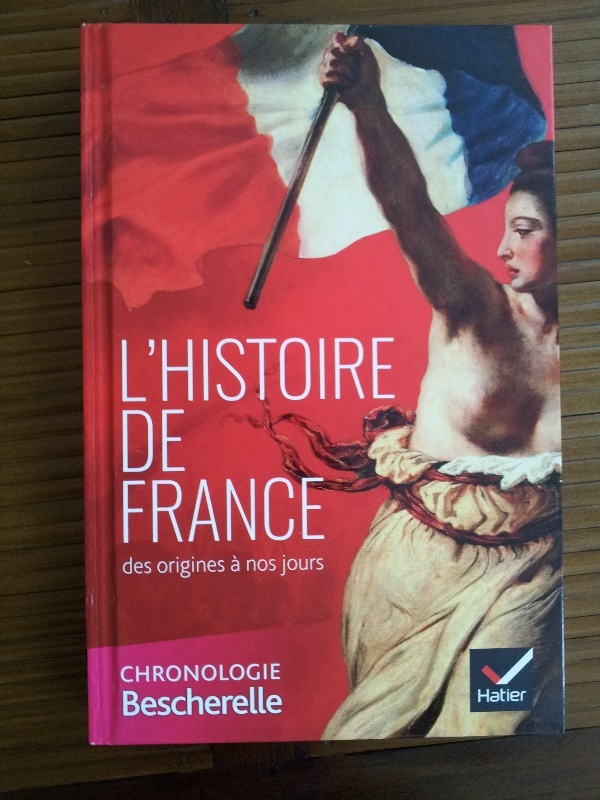text: (129, 334, 144, 406), (145, 334, 160, 406), (161, 334, 176, 406), (177, 334, 192, 406), (193, 334, 208, 406), (209, 334, 224, 406), (225, 334, 240, 406), (241, 334, 256, 406), (257, 334, 272, 406), (273, 334, 288, 406), (289, 334, 304, 406), (305, 334, 320, 406), (321, 334, 336, 406), (337, 334, 352, 406), (353, 334, 368, 406), (369, 334, 384, 406), (129, 477, 144, 545), (145, 477, 160, 545), (161, 477, 176, 545), (177, 477, 192, 545), (193, 477, 208, 545), (209, 477, 224, 545), (225, 477, 240, 545), (241, 477, 256, 545), (257, 477, 272, 545), (273, 477, 288, 545), (289, 477, 304, 545), (305, 477, 320, 545), (129, 408, 144, 474), (145, 408, 160, 474), (161, 408, 176, 474), (385, 334, 397, 406), (177, 408, 188, 474), (129, 682, 144, 721), (145, 682, 160, 721), (161, 682, 176, 721), (177, 682, 192, 721), (193, 682, 208, 721), (209, 682, 224, 721), (225, 682, 240, 721), (241, 682, 256, 721), (257, 682, 272, 721), (273, 682, 286, 721), (121, 334, 128, 406), (116, 682, 128, 721), (129, 657, 144, 688), (145, 657, 160, 688), (161, 657, 176, 688), (177, 657, 192, 688), (193, 657, 208, 688), (209, 657, 224, 688), (225, 657, 240, 688), (241, 657, 256, 688), (257, 657, 272, 688), (121, 408, 128, 474), (115, 657, 128, 688), (273, 657, 286, 688), (289, 554, 304, 578), (305, 554, 320, 578), (161, 556, 176, 579), (177, 556, 192, 579), (193, 556, 208, 579), (209, 556, 224, 579), (123, 477, 128, 545), (321, 477, 326, 545), (129, 556, 144, 575), (481, 687, 496, 705), (497, 687, 512, 705), (513, 687, 528, 705), (257, 558, 272, 573), (229, 555, 240, 573), (280, 554, 288, 578), (245, 558, 256, 573), (145, 556, 153, 575), (321, 554, 326, 578), (123, 556, 128, 575), (273, 558, 278, 573), (157, 556, 160, 579), (477, 687, 480, 705), (225, 556, 226, 579)
